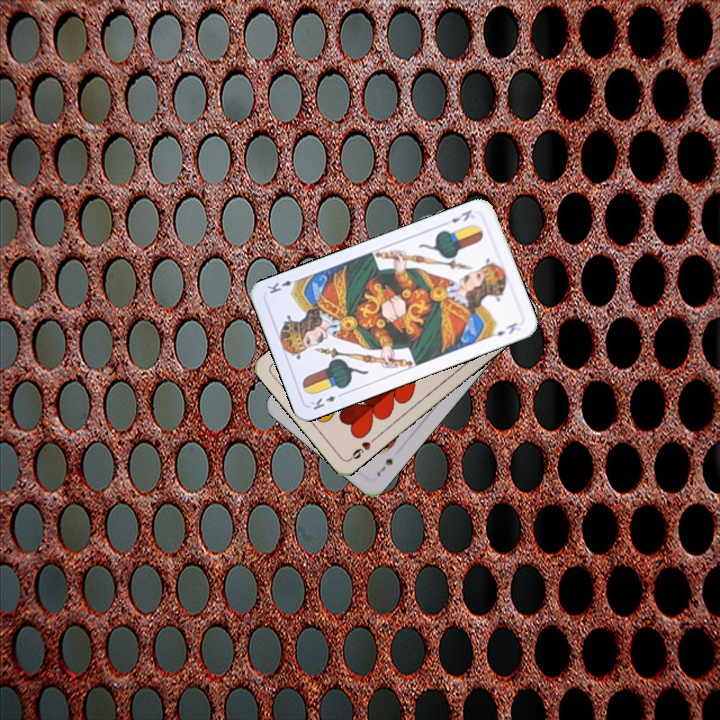EK: (306, 389, 347, 413), (447, 206, 474, 225)
H9: (345, 432, 379, 463)
S7: (373, 454, 396, 479)
